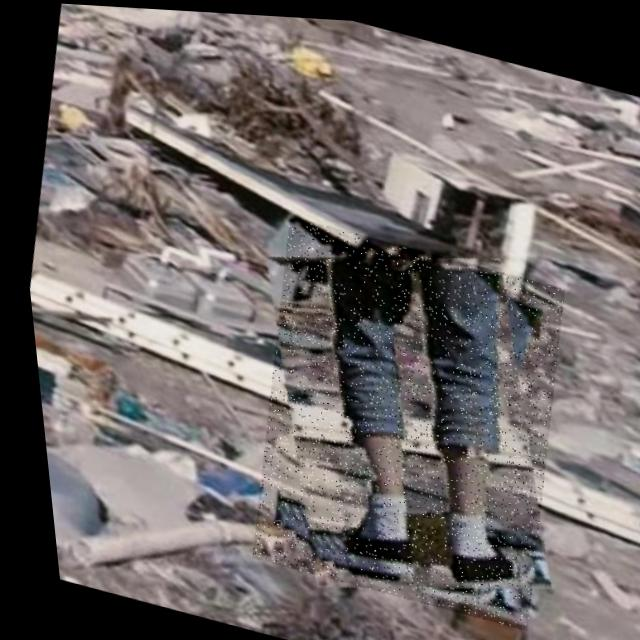Person in Rubble: (211, 209, 587, 628)
